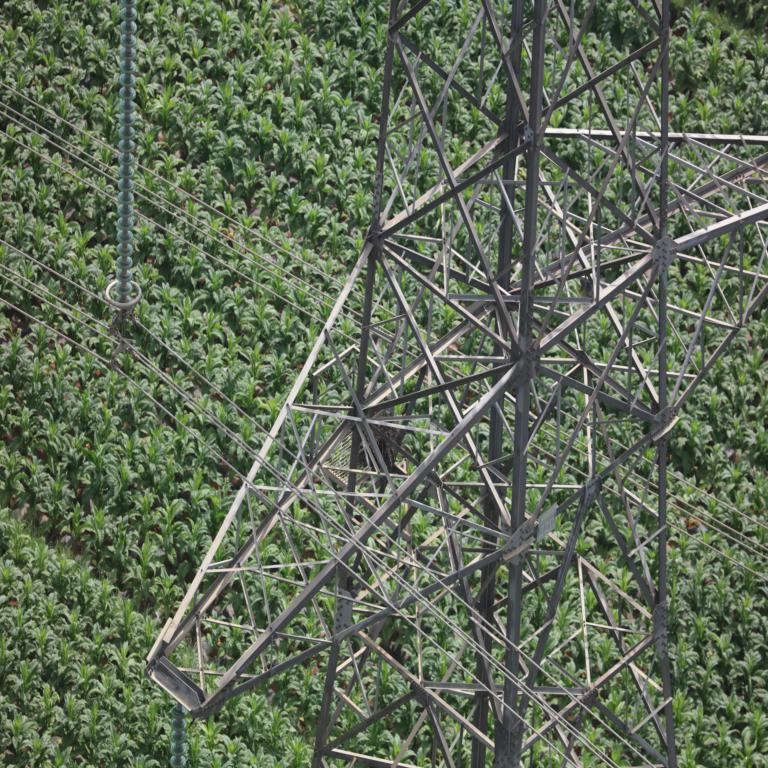nest: (372, 411, 400, 465)
